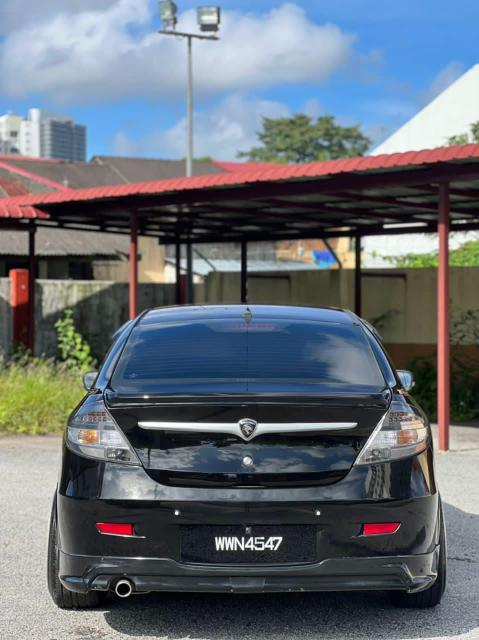License_Plate: (190, 528, 304, 562)
car: (47, 298, 452, 611)
